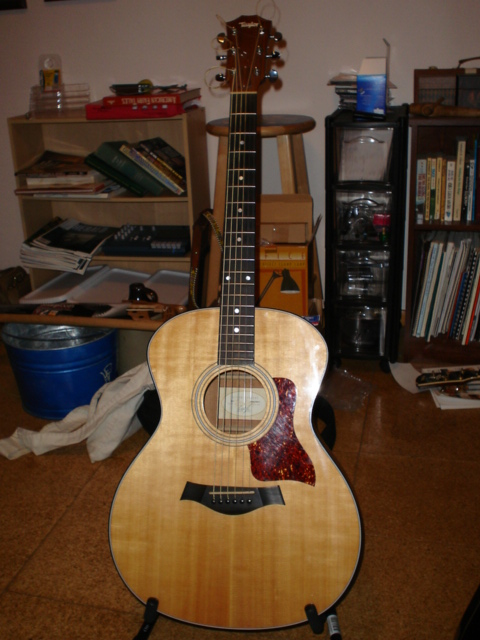guitar: (102, 11, 364, 632)
